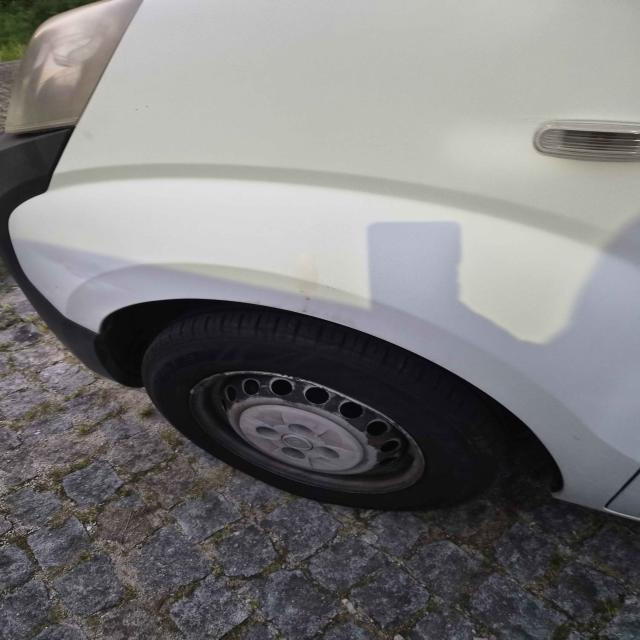jante: (188, 369, 426, 496)
parafuso: (289, 422, 318, 440), (256, 422, 281, 440), (279, 446, 306, 460), (316, 446, 339, 459)
roda: (139, 306, 510, 513)
